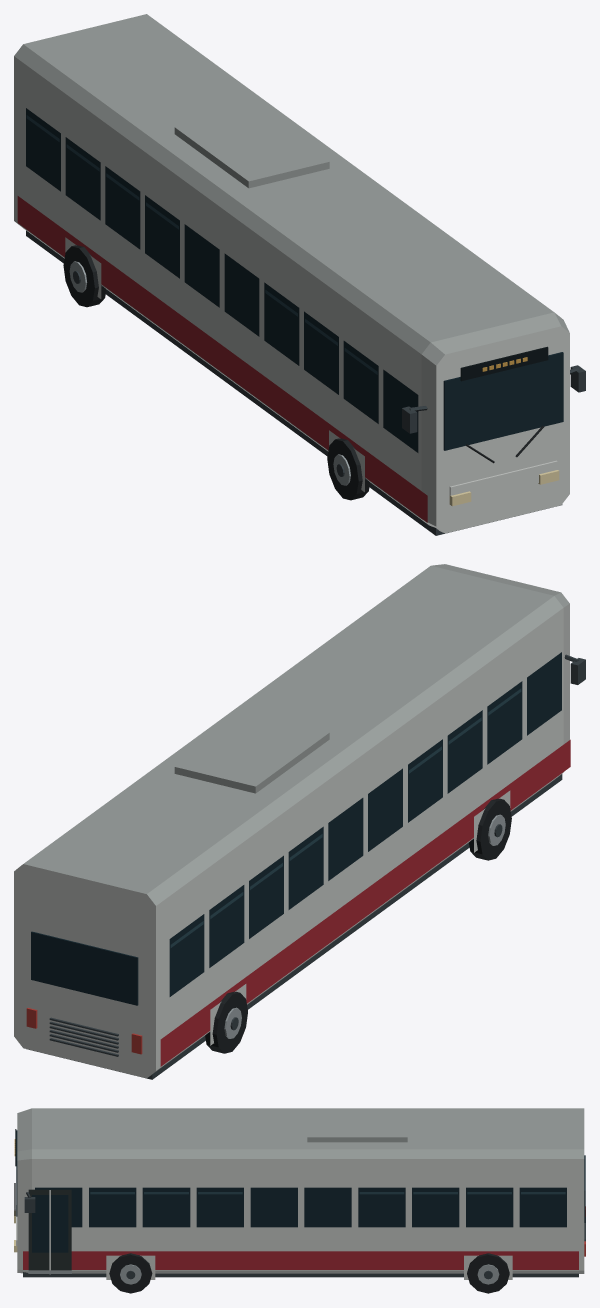
Rendered from bus-airport-coach.glb.
3 renders of one model, top to bottom at view 1: azimuth 30°, elevation 25°; view 2: azimuth 150°, elevation 25°; view 3: azimuth 270°, elevation 25°, orthographic. The views are drawn at different scales.
Parts seen in each view (by area): view 1: bus-airport-coach.segment-01.005; view 2: bus-airport-coach.segment-01.005; view 3: bus-airport-coach.segment-01.005.
Boxes of the visible parts, box(x1,y1,x2,y2) form: bus-airport-coach.segment-01.005: box(14, 14, 585, 535); bus-airport-coach.segment-01.005: box(14, 564, 585, 1079); bus-airport-coach.segment-01.005: box(14, 1108, 585, 1293).
Size of the model in its own units: 3.16 by 3.65 by 13.12.
